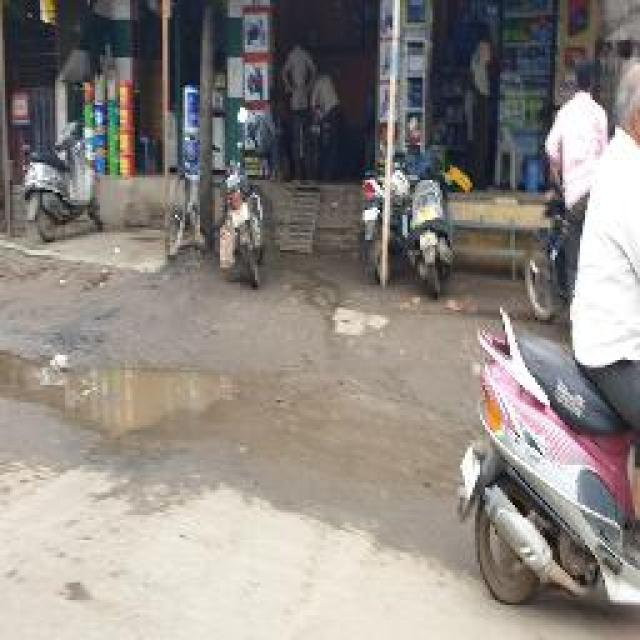puddle: (1, 356, 232, 434)
